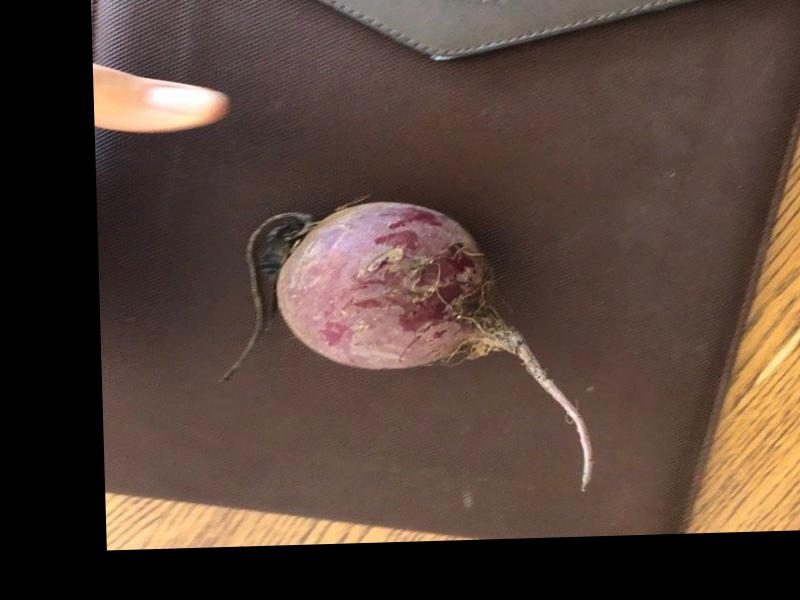Beet: (217, 196, 594, 499)
